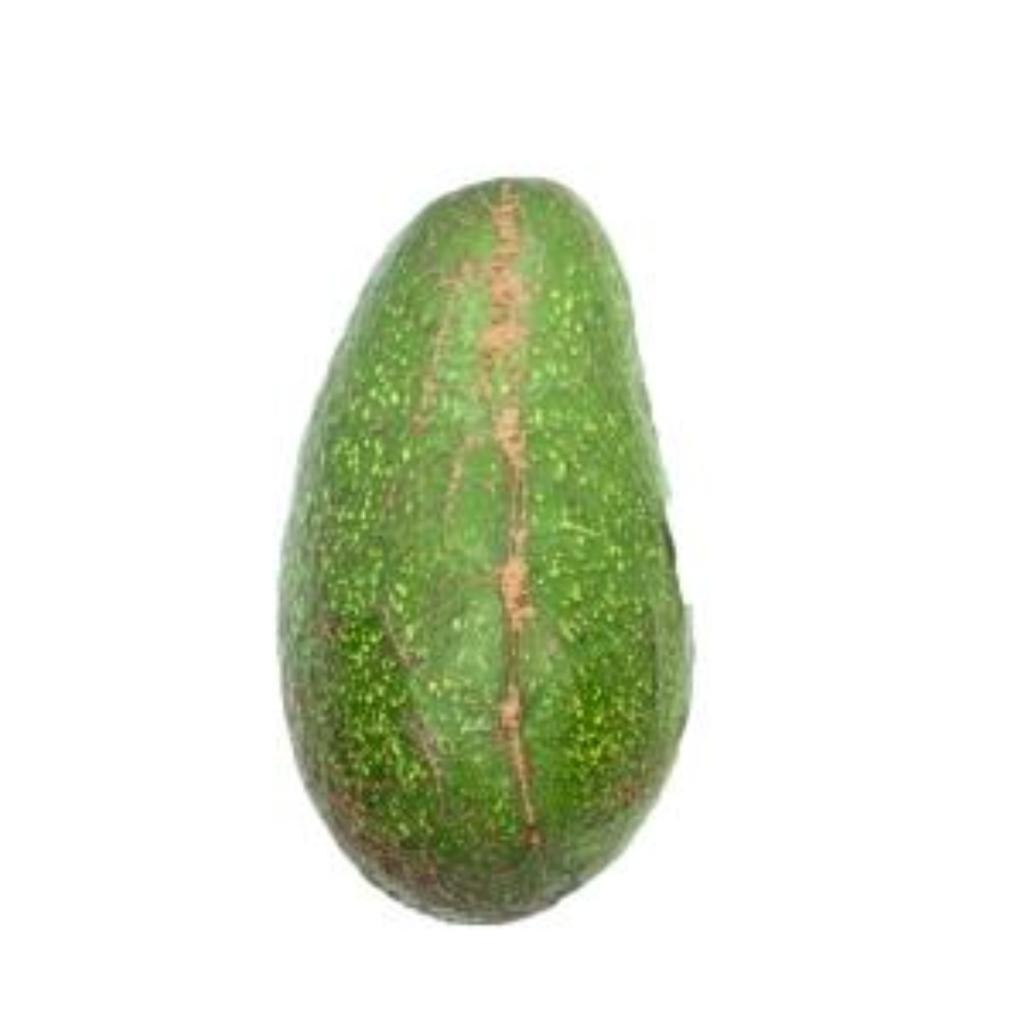cercospora_spot: (264, 164, 696, 932)
